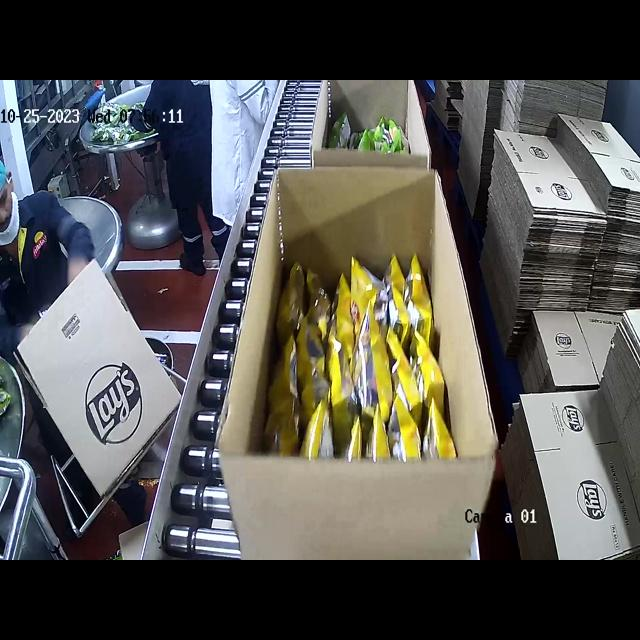salted: (263, 251, 458, 461)
yogurt: (328, 106, 416, 159)
